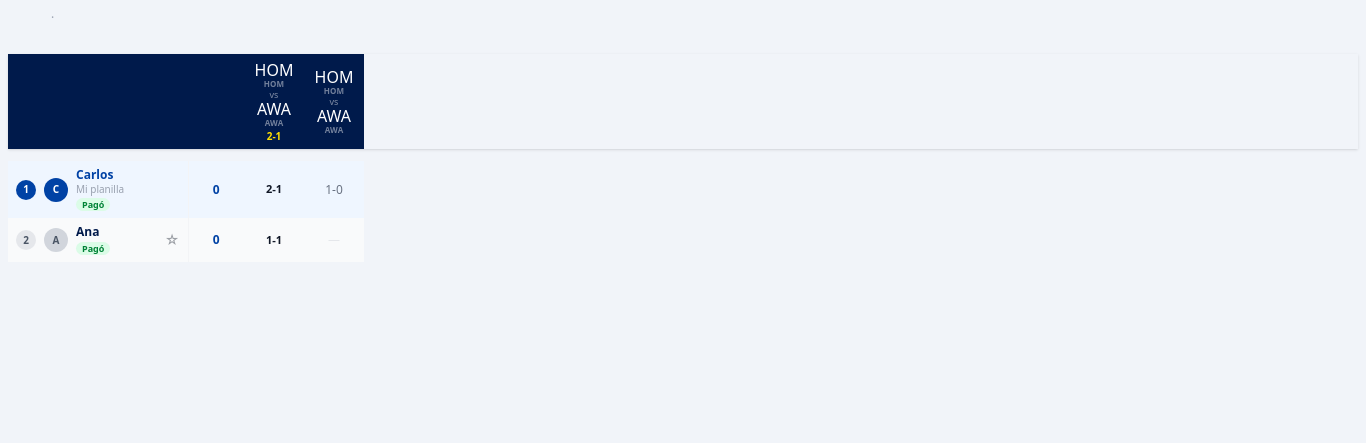
it: Matriz — BetPopover › click en badge de partido finalizado abre el popover con los equipos
Check: the text "Carlos" is shown, box [76,166,113,183]
Click the button "2-1".
click(274, 189)  # box [266,181,282,196]
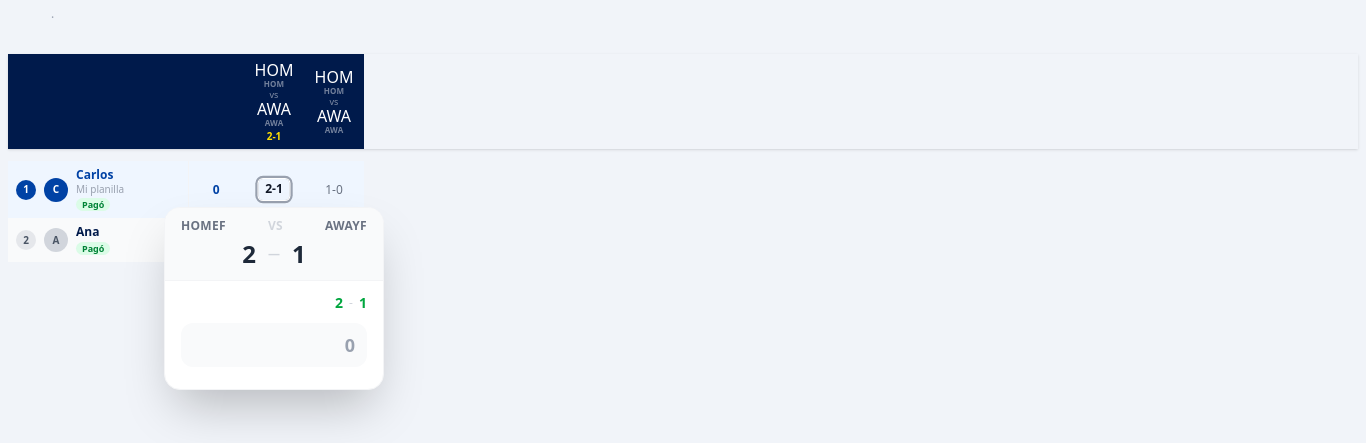
Check: the text "HomeF" is shown, box [181,218,226,234]
Check: the text "AwayF" is shown, box [325,218,367,234]
